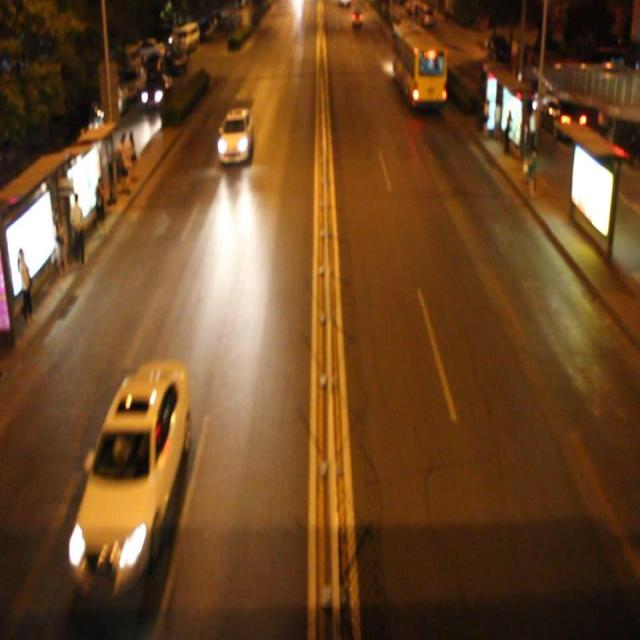car: (68, 357, 190, 598), (216, 106, 252, 168)
van: (392, 20, 446, 104)
